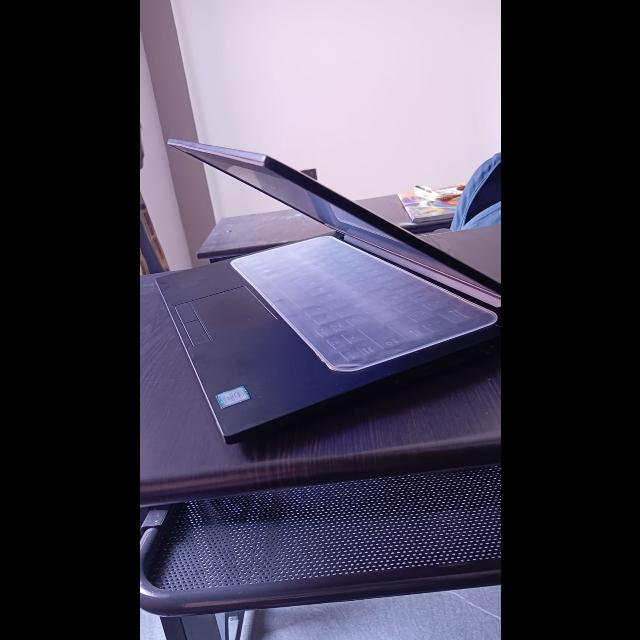laptop: (148, 135, 500, 441)
